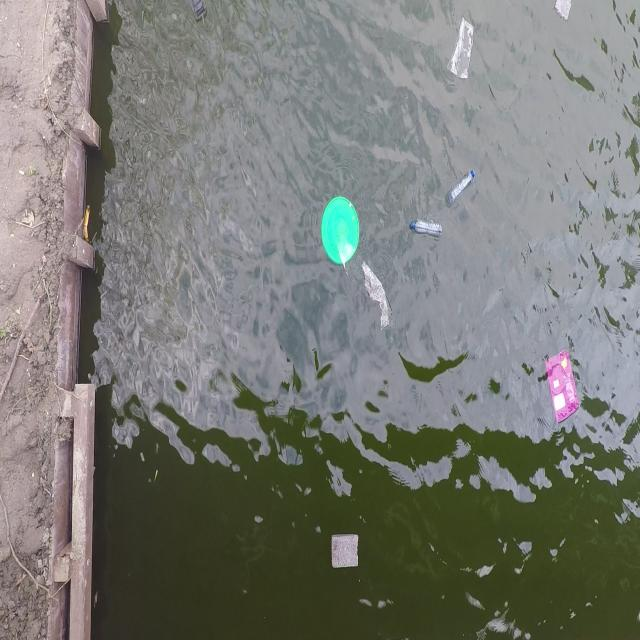Autre plastique: (316, 184, 361, 272), (541, 346, 585, 426)
Bouteille plastique: (446, 164, 477, 212), (408, 210, 444, 244)
Sac plastique: (360, 258, 396, 334), (449, 13, 477, 92)
